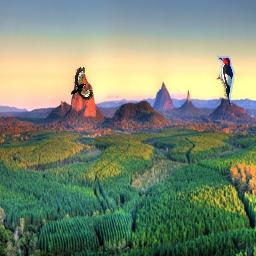Woodpecker: (217, 54, 236, 107), (71, 68, 94, 101)
